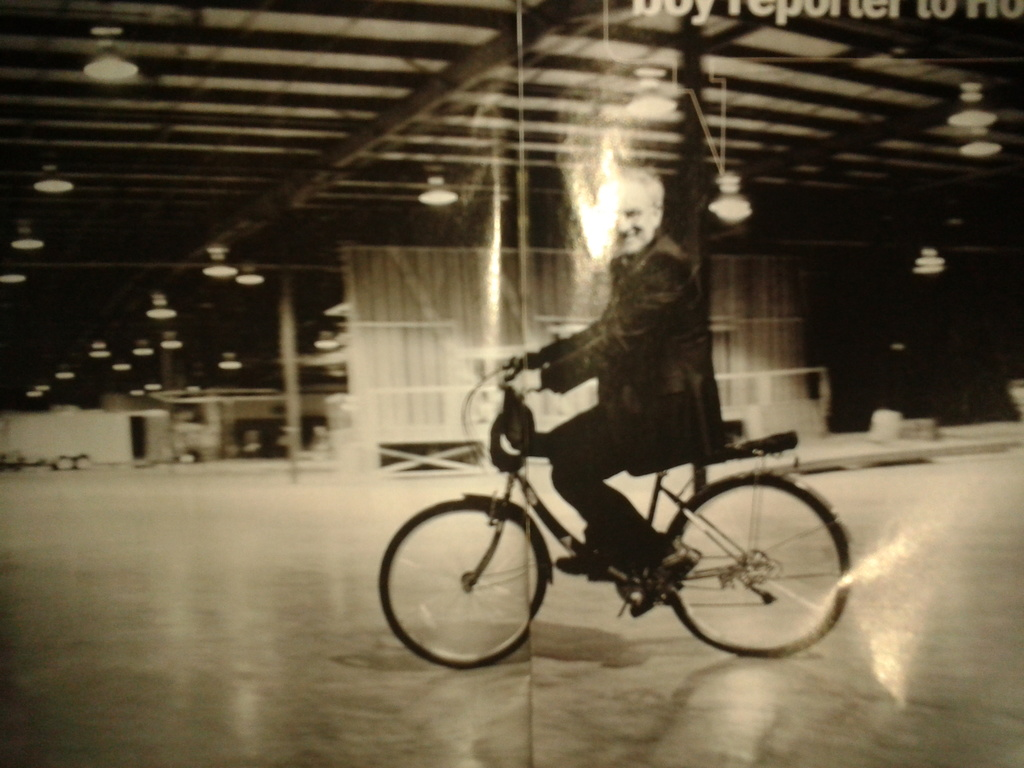Bike_away: (374, 356, 853, 665)
